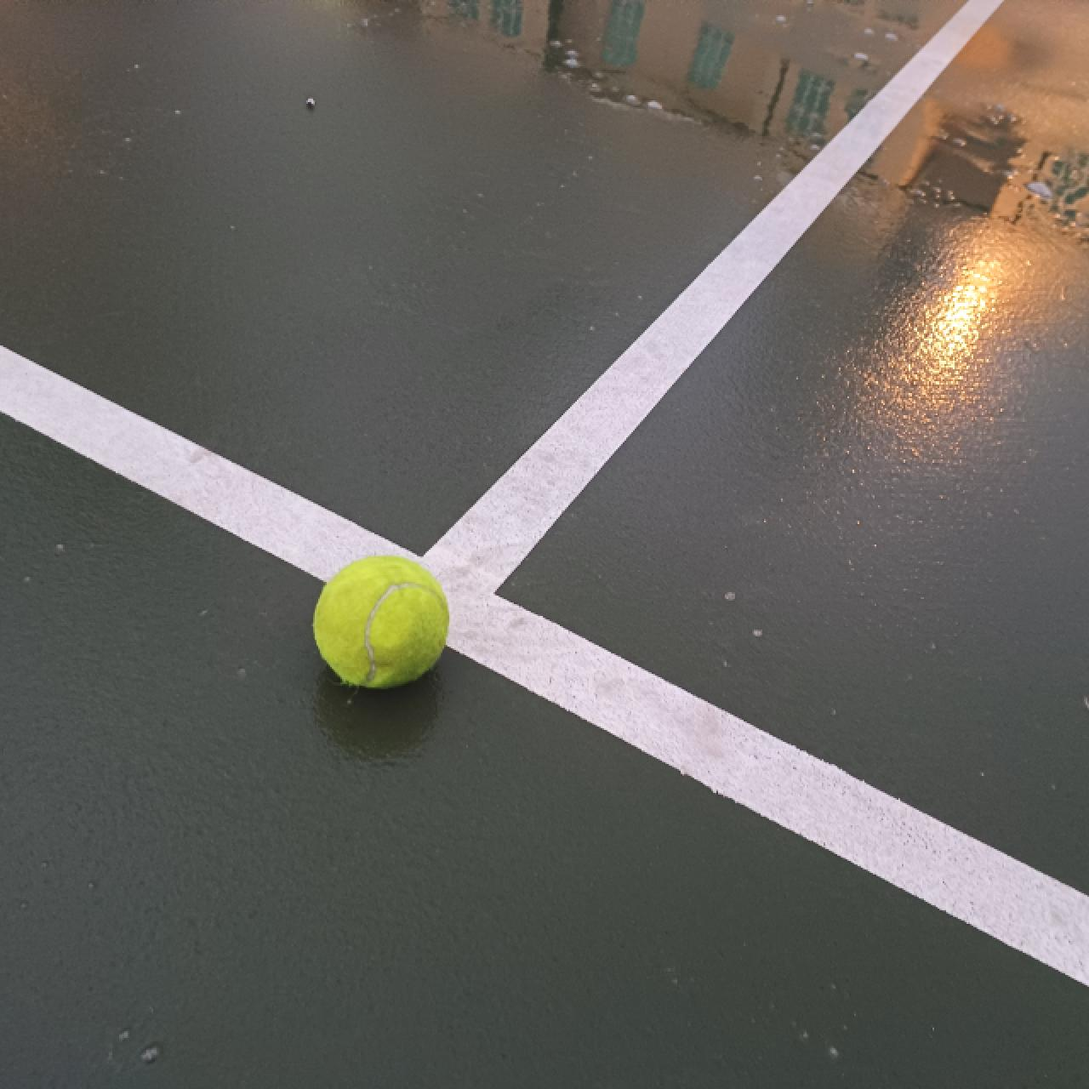tennis-ball: (312, 554, 452, 692)
